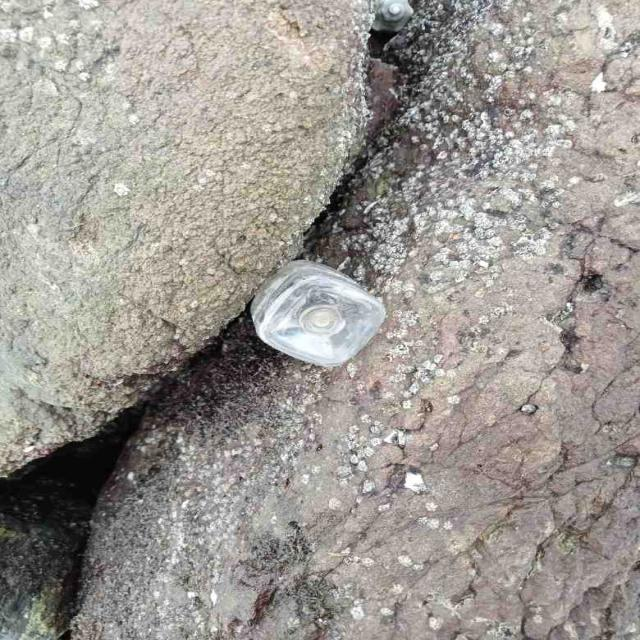hop_nhua: (250, 260, 385, 367)
